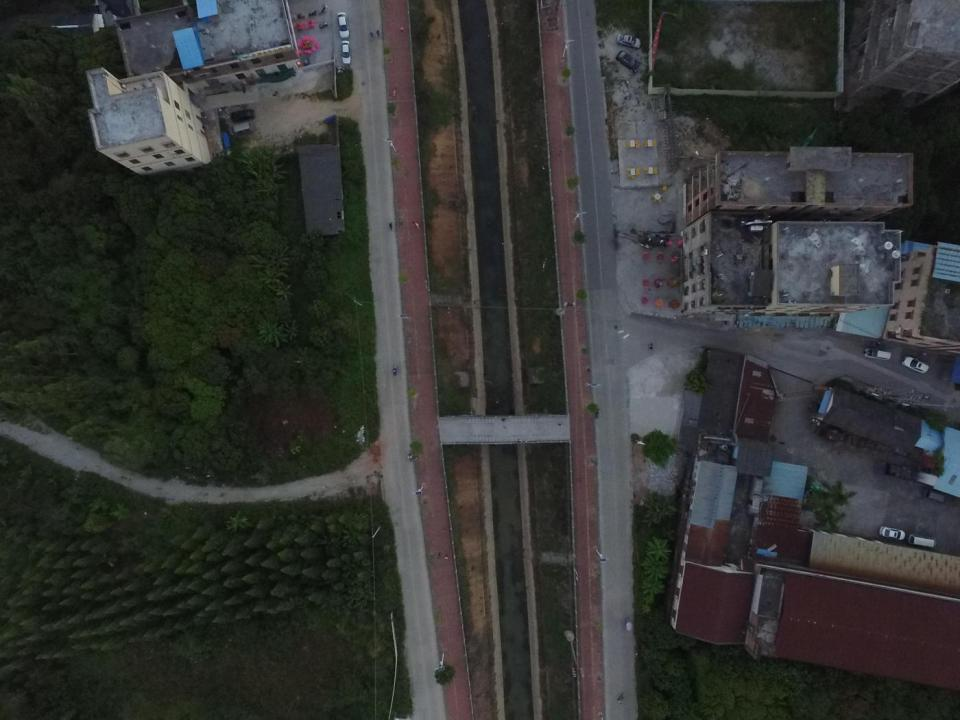car: (901, 356, 930, 374), (878, 525, 906, 541), (336, 11, 350, 39), (230, 108, 256, 123), (341, 40, 352, 65)
truck: (873, 459, 915, 481)
van: (907, 533, 937, 548), (864, 347, 892, 361), (230, 122, 254, 137)
